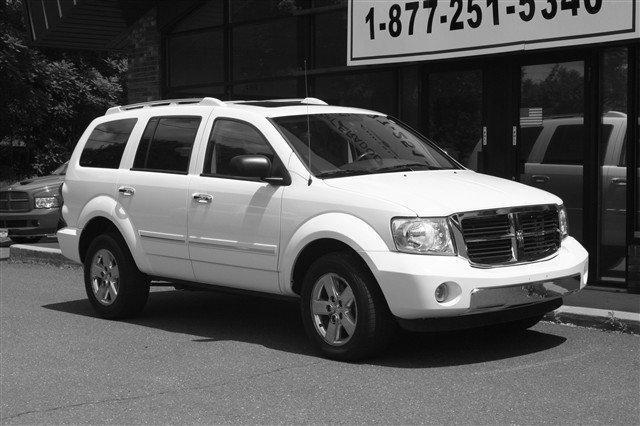car: (52, 90, 596, 362)
